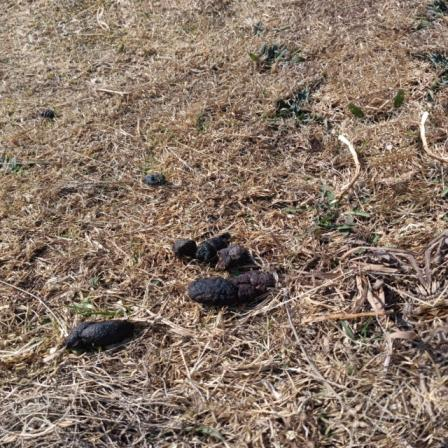dog-poop: (177, 234, 268, 304), (63, 310, 131, 350)
